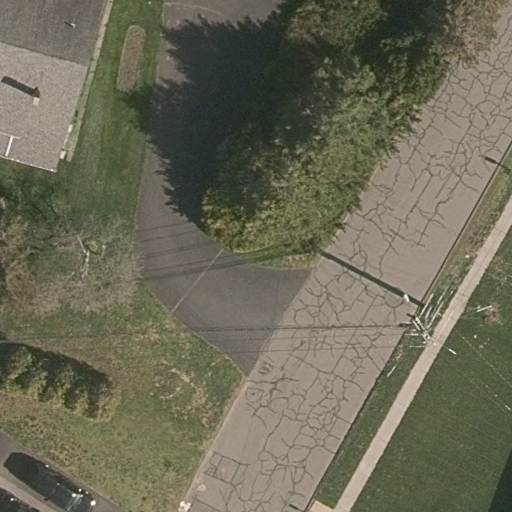DT: (390, 284, 468, 357)
